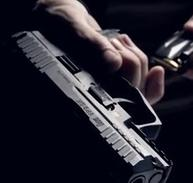gun: (1, 1, 193, 183)
